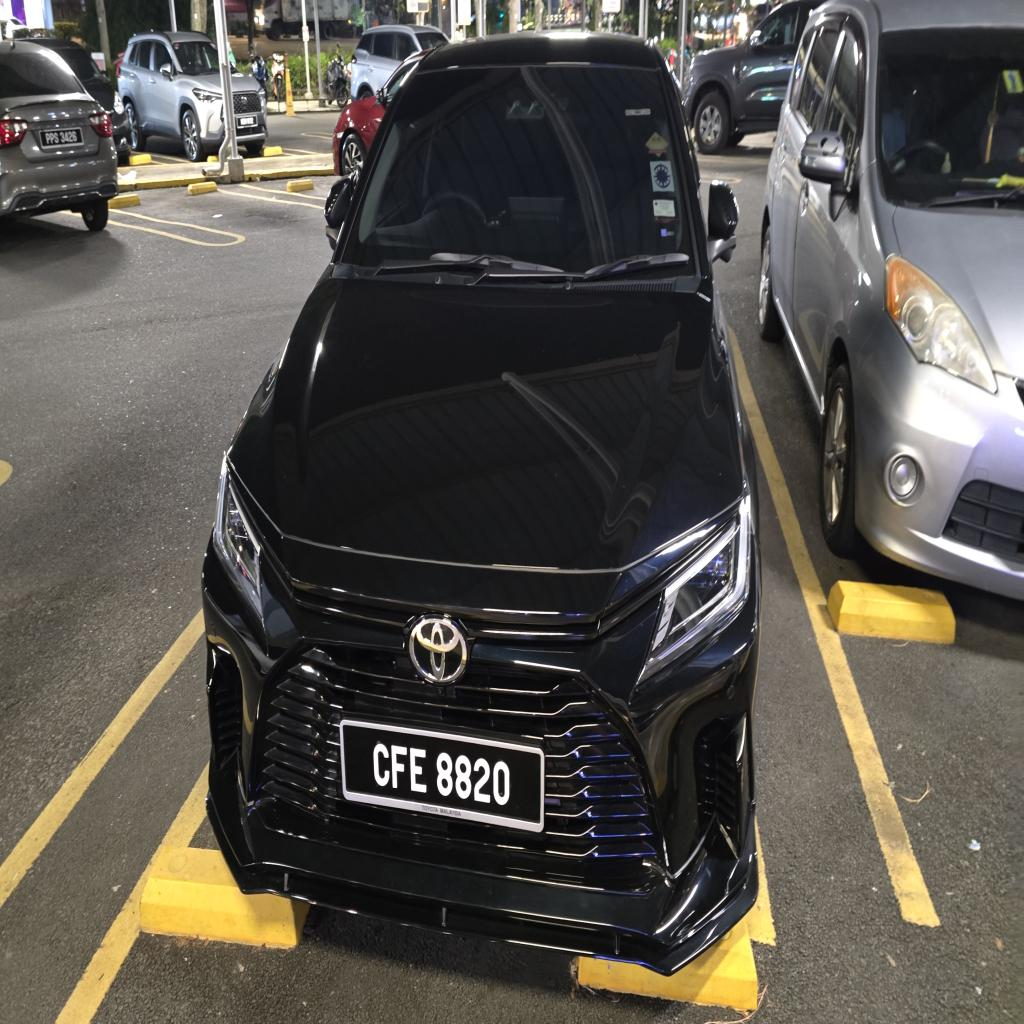car: (202, 32, 760, 972), (0, 40, 118, 230)
car plate: (340, 719, 544, 832), (39, 127, 83, 148)
